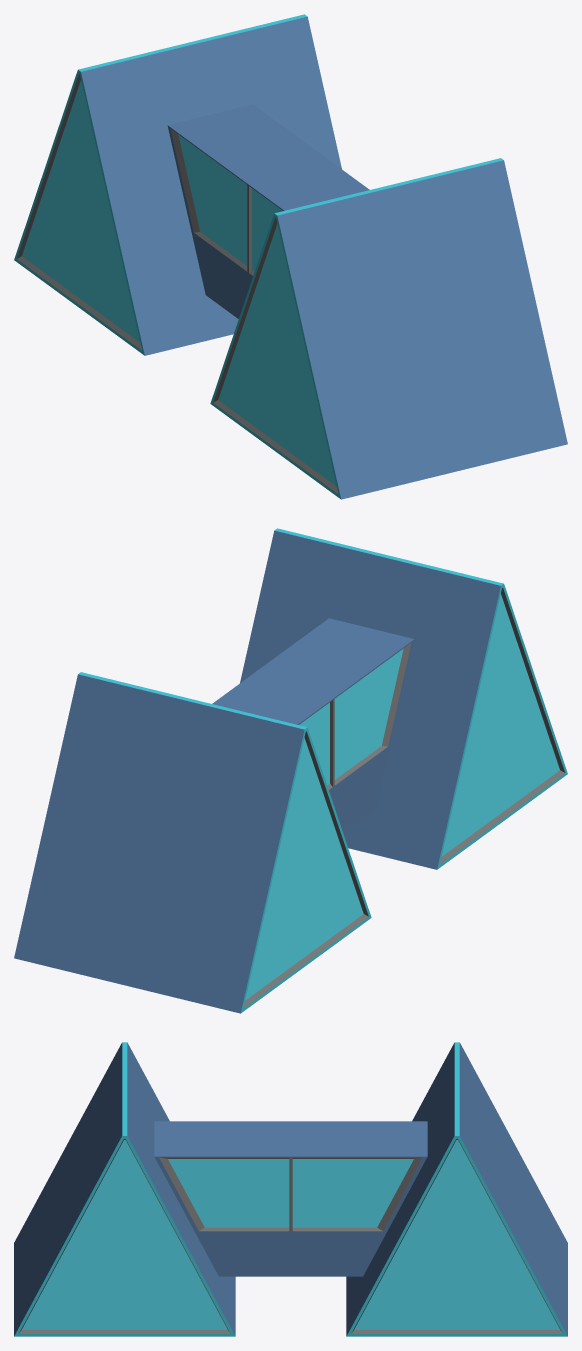
The model's file is Building3.fbx.
3 renders of one model, top to bottom at view 1: azimuth 30°, elevation 25°; view 2: azimuth 150°, elevation 25°; view 3: azimuth 270°, elevation 25°, orthographic. The views are drawn at different scales.
Parts seen in each view (by area): view 1: Object3; view 2: Object3; view 3: Object3.
Part boxes in pixels (x1,y1,x2,y2): Object3: [14, 14, 567, 499]; Object3: [14, 528, 567, 1013]; Object3: [14, 1042, 567, 1336].
Size of the model in its own units: 200 by 200 by 500.
